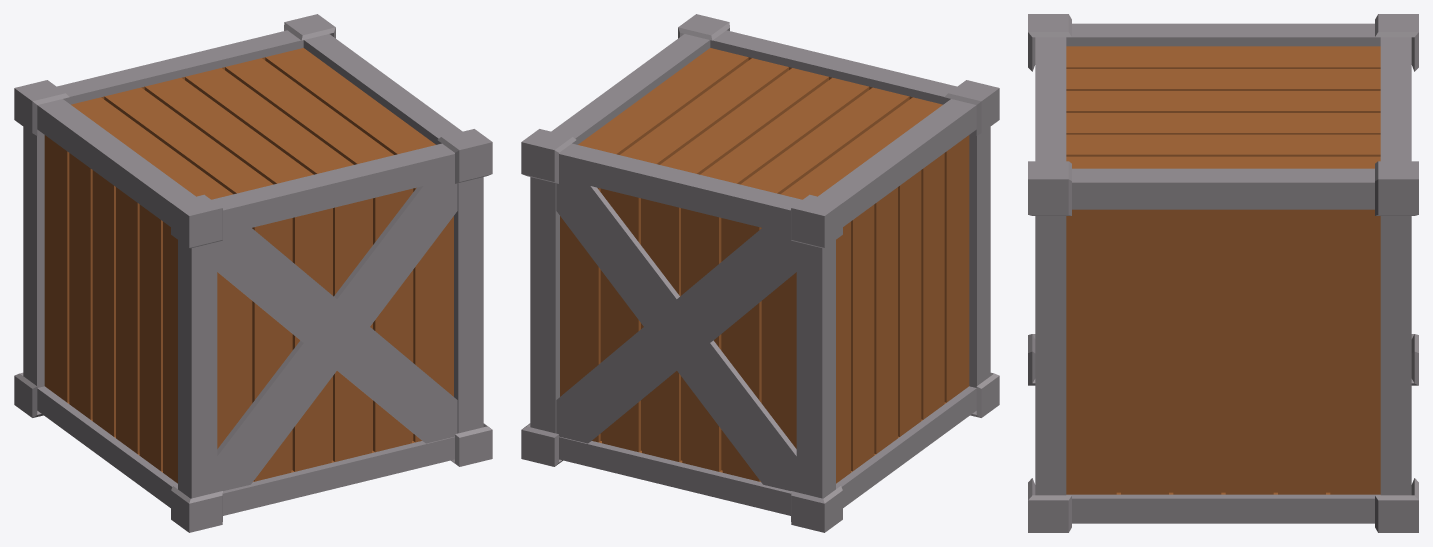
Rendered from Crate_box.fbx.
The picture shows the model from 3 angles, left to right: view 1: azimuth 30°, elevation 25°; view 2: azimuth 150°, elevation 25°; view 3: azimuth 270°, elevation 25°; orthographic projection. The views are drawn at different scales.
Visible parts, largest first — view 1: Cube.001; view 2: Cube.001; view 3: Cube.001.
Part boxes in pixels (box(x1,y1,x2,y2)): Cube.001: box(14, 14, 492, 532); Cube.001: box(521, 14, 999, 532); Cube.001: box(1028, 14, 1418, 532).
Bounding box in the file's own units: 208 × 207 × 208.
